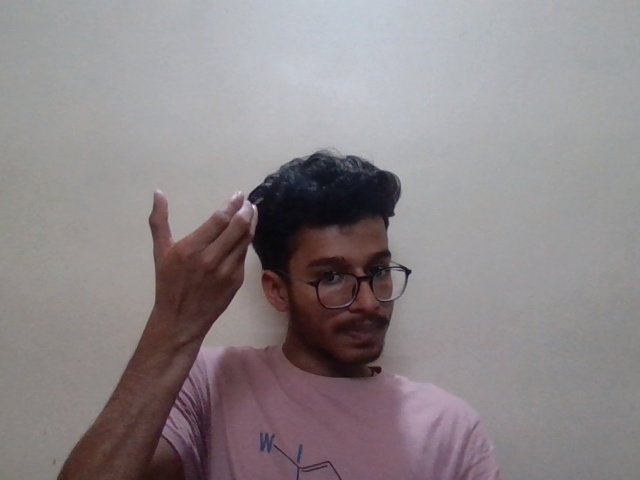U: (141, 181, 279, 331)
